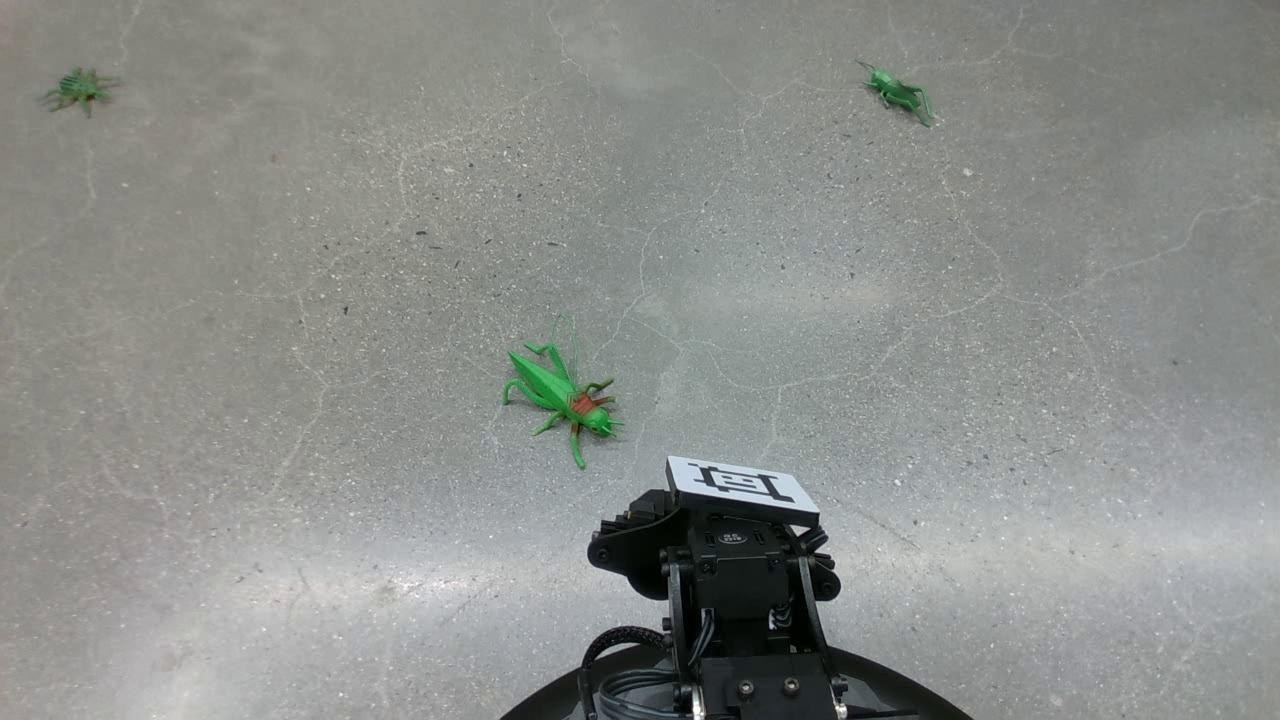grasshopper: (503, 340, 618, 468)
